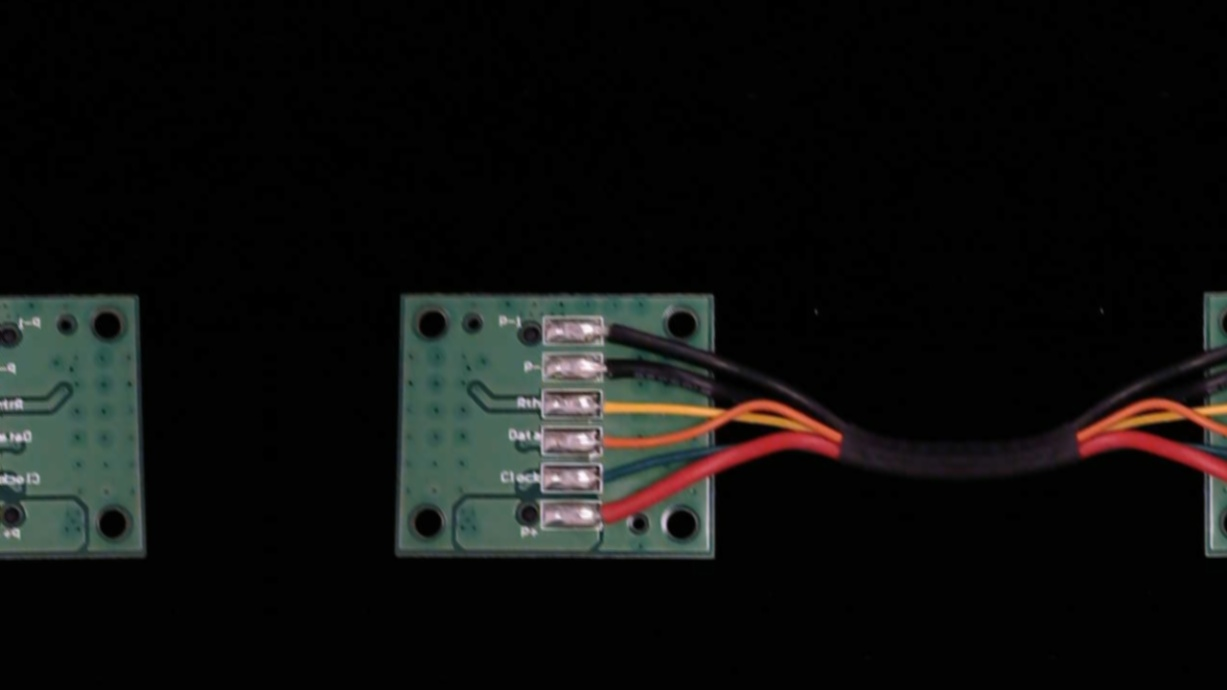Black: (580, 349, 650, 382)
Black1: (583, 311, 647, 343)
Green: (581, 461, 639, 492)
Orange: (582, 423, 651, 454)
Red: (582, 497, 650, 530)
Yellow: (582, 389, 653, 422)
